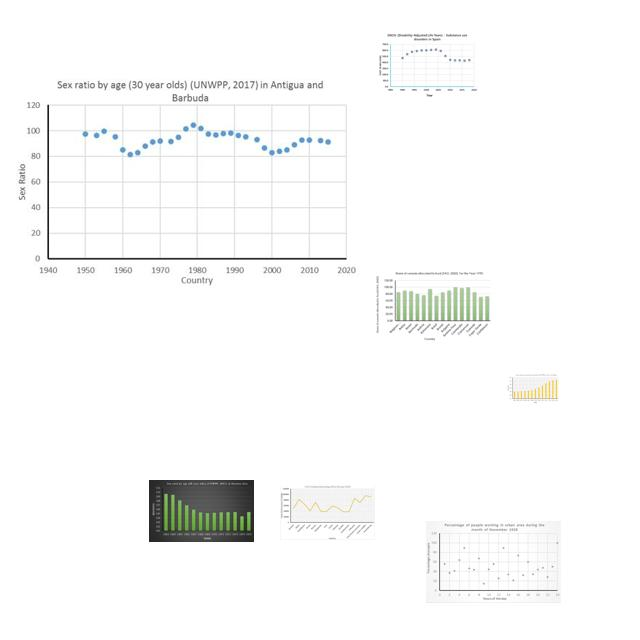Graph: (16, 73, 362, 286), (426, 521, 561, 603), (371, 271, 493, 343), (377, 32, 478, 98), (149, 480, 254, 542), (280, 485, 375, 540), (506, 373, 559, 404)
